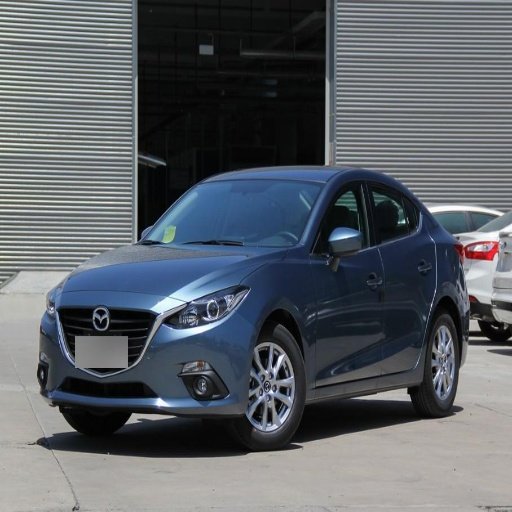back_glass: (366, 177, 435, 370)
back_right_light: (36, 293, 259, 411)
front_bumper: (140, 179, 324, 246)
front_glass: (311, 177, 383, 383)
front_left_door: (163, 286, 248, 329)
front_right_light: (61, 243, 287, 301)
trunk: (245, 324, 302, 448), (413, 313, 459, 417), (68, 408, 123, 444)
